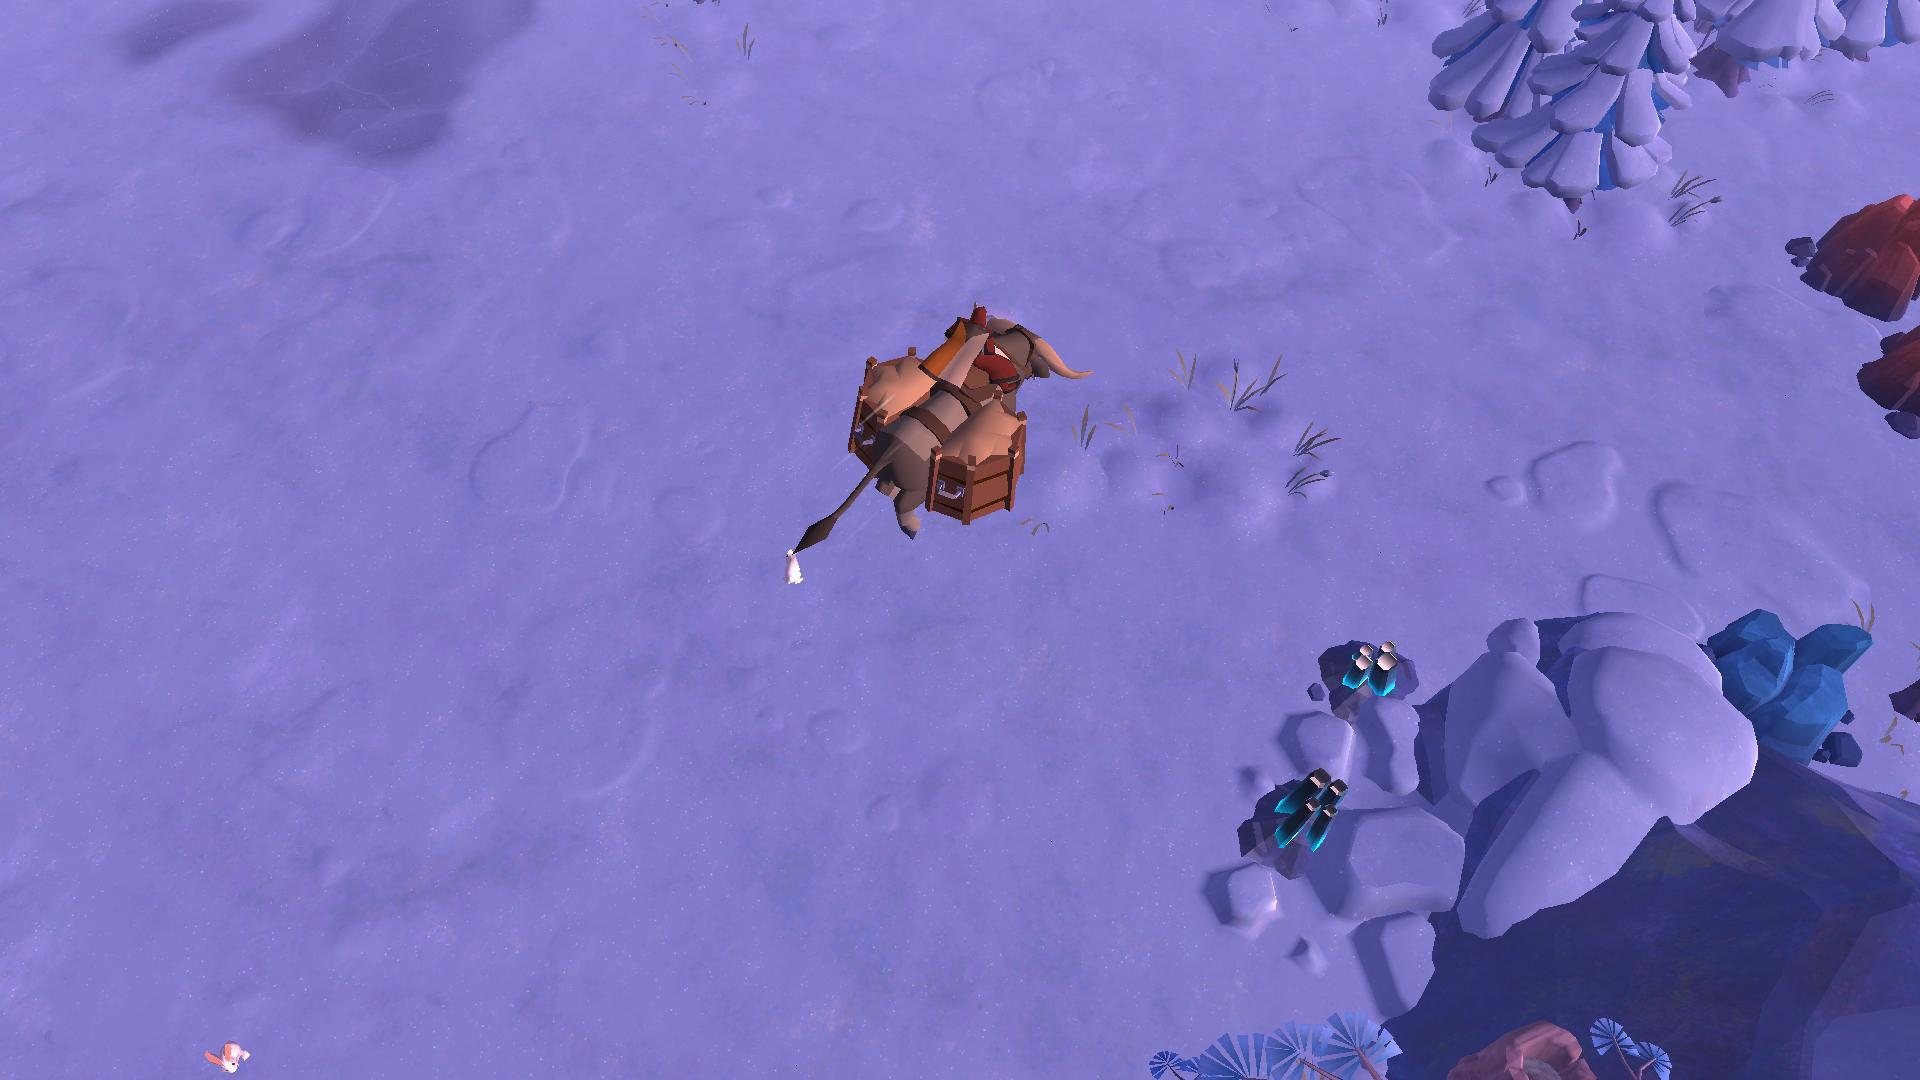ore_t4: (1266, 766, 1346, 862), (1336, 636, 1400, 695)
rock_t4: (1693, 599, 1882, 777)
rock_t5: (1780, 189, 1920, 320), (1853, 316, 1920, 440)
